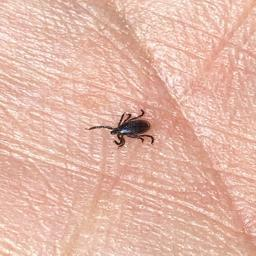Ixodes scapularis: (87, 109, 154, 147)
